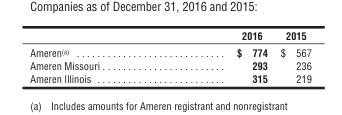table: (29, 28, 310, 84)
table column: (29, 28, 167, 84), (167, 28, 273, 84), (273, 28, 310, 84)
table column header: (29, 28, 310, 43)
table row: (29, 28, 310, 43), (29, 43, 310, 58), (29, 58, 310, 71), (29, 71, 310, 84)
